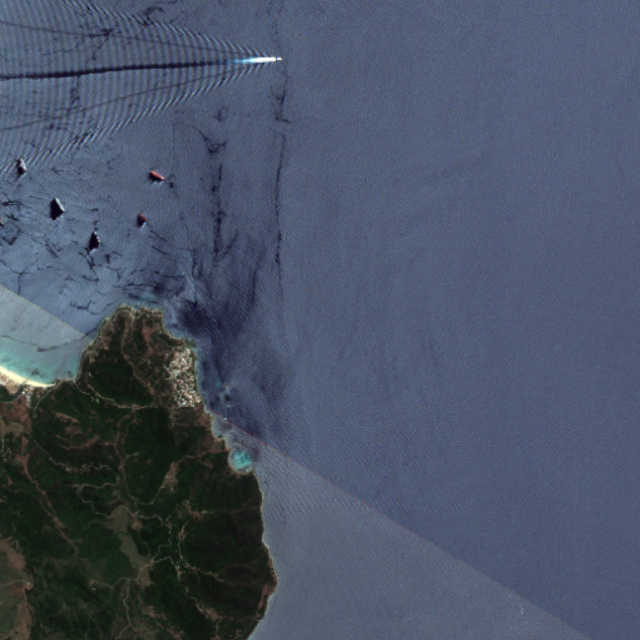wake: (46, 1, 301, 129)
